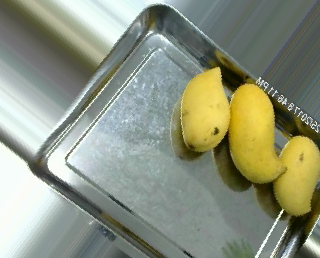Mango: (229, 79, 286, 187), (177, 64, 232, 155), (270, 132, 320, 218)
